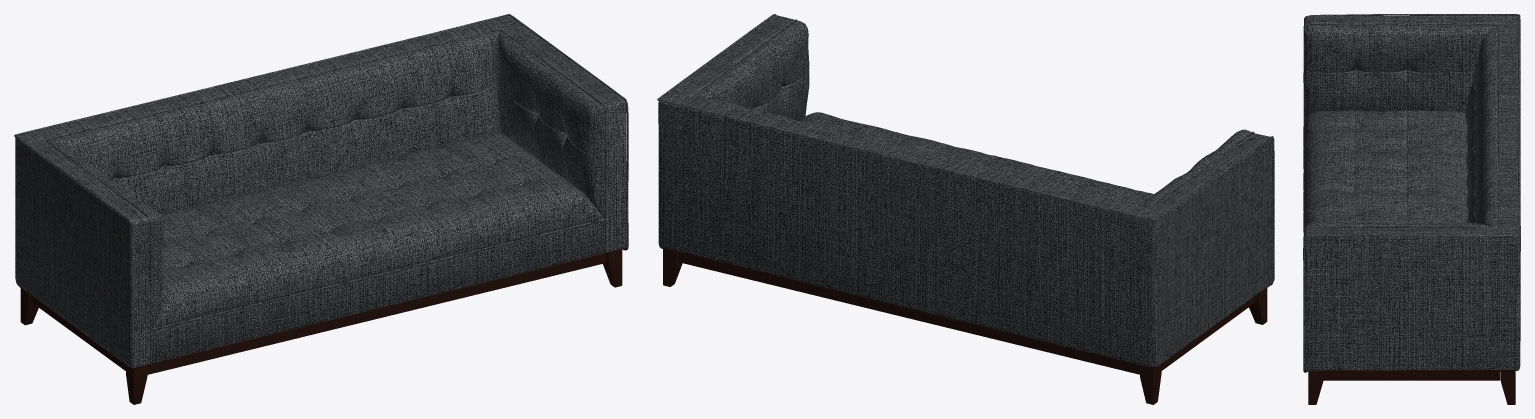
The picture shows the model from 3 angles, left to right: view 1: azimuth 30°, elevation 25°; view 2: azimuth 150°, elevation 25°; view 3: azimuth 270°, elevation 25°; orthographic projection. The views are drawn at different scales.
Visible parts, largest first — view 1: C-skp7604; view 2: C-skp7604; view 3: C-skp7604.
Part boxes in pixels (left/top/right/bottom): C-skp7604: left=14, top=14, right=628, bottom=404; C-skp7604: left=657, top=14, right=1274, bottom=404; C-skp7604: left=1303, top=14, right=1520, bottom=404.
Size of the model in its own units: 1.98 by 0.7129 by 0.8213.
Materials: 2 (2 with a texture image).
